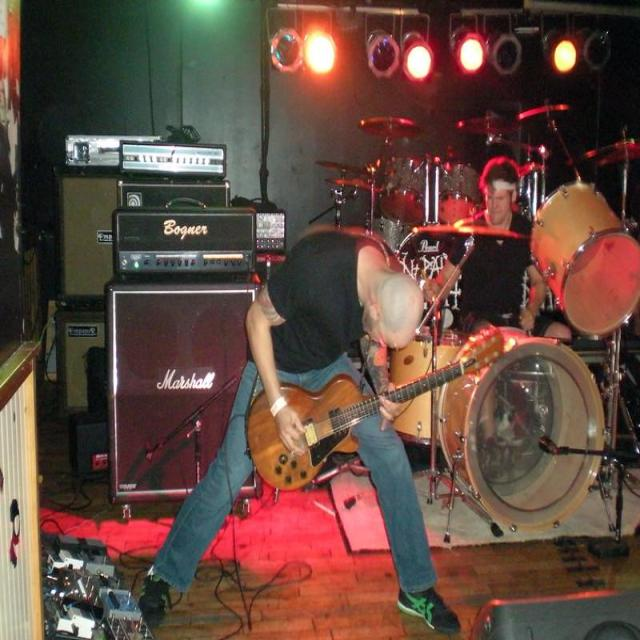guitar: (247, 376, 380, 489)
